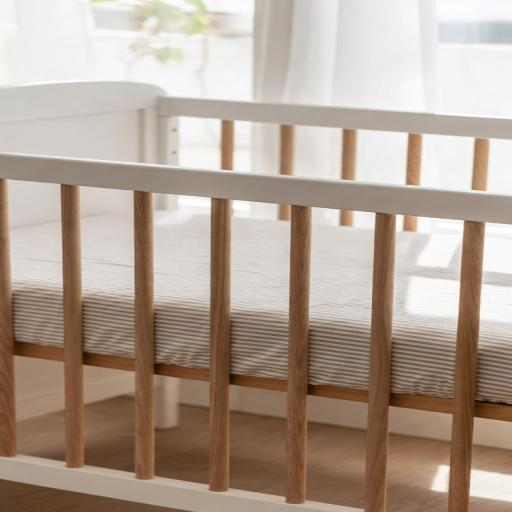crib: (0, 83, 511, 511)
